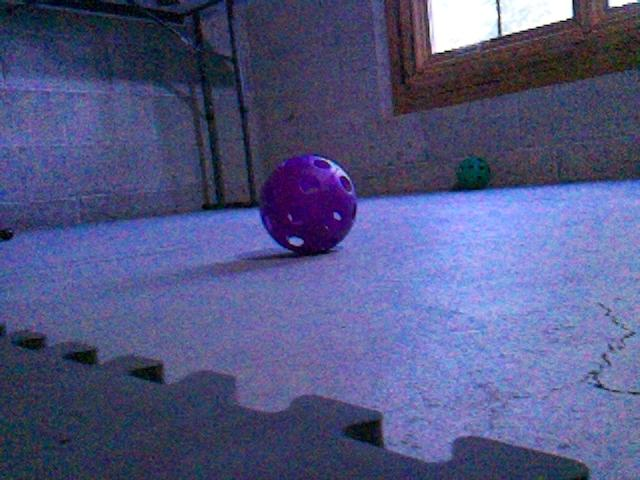Green: (455, 157, 491, 190)
Purple: (257, 153, 356, 253)
